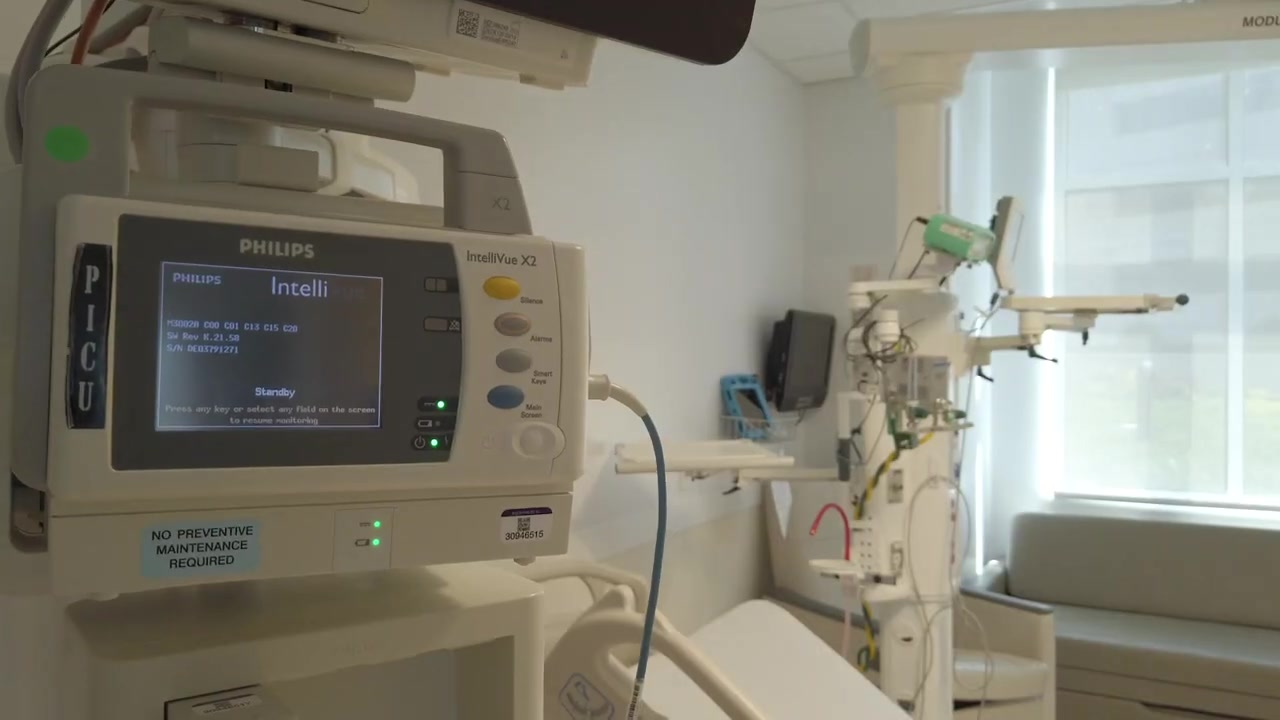bedrail: (526, 561, 777, 720)
bedside_monitor: (90, 212, 497, 489)
sofa: (953, 489, 1280, 720)
